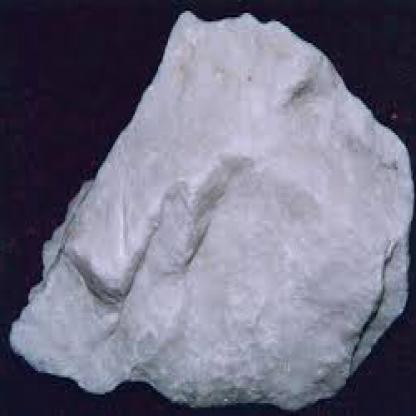Metamorphic_Marble: (8, 6, 416, 414)
